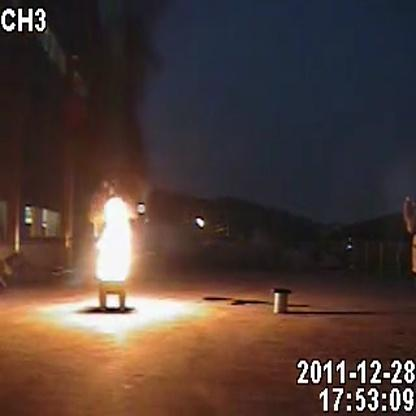Fire: (96, 194, 139, 286)
